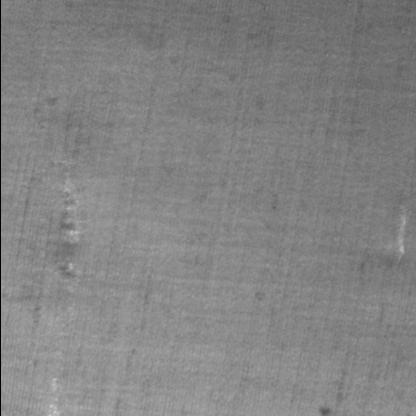thread error: (46, 176, 82, 284)
